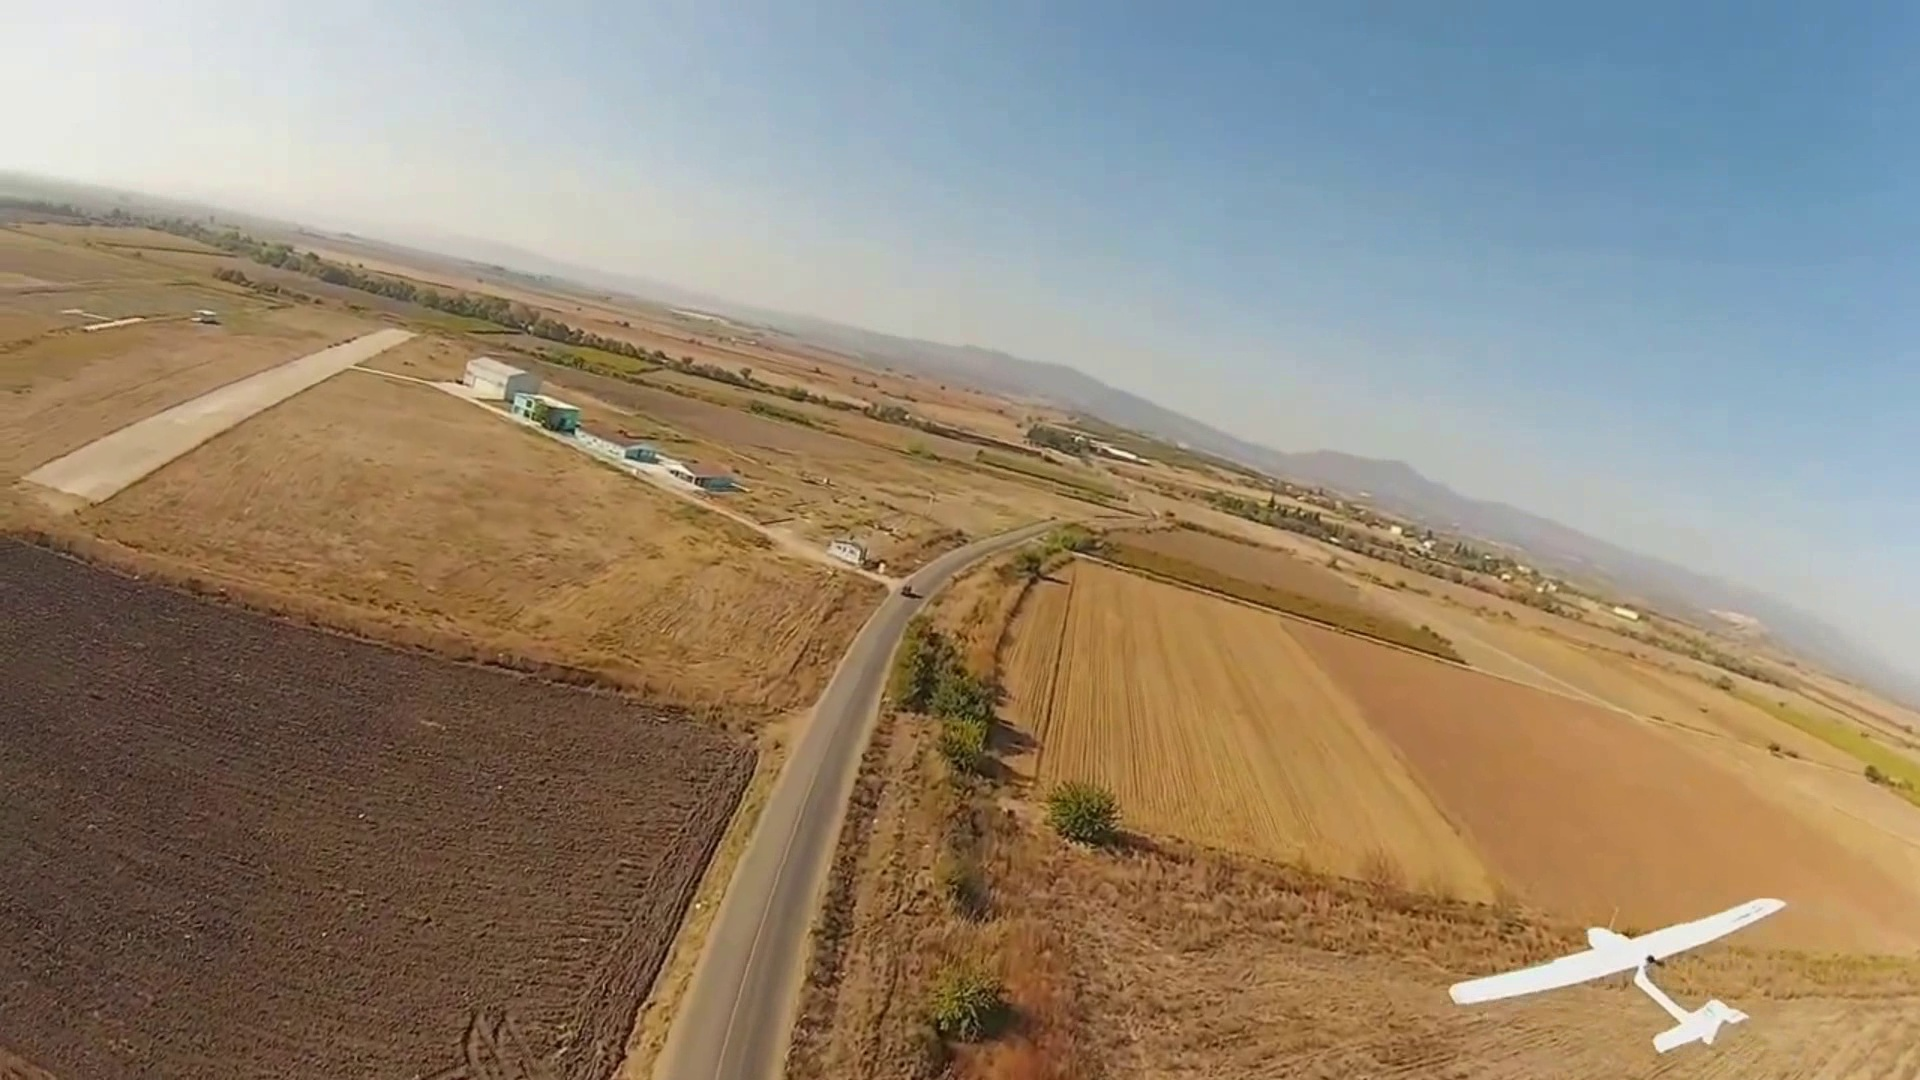airplane: (1449, 899, 1791, 1057)
